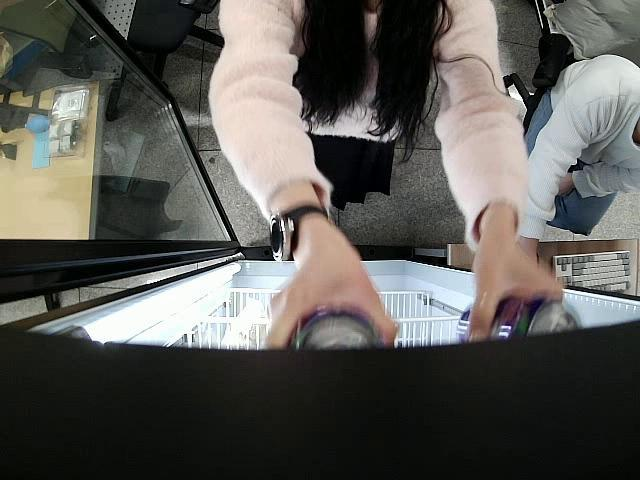14_welchsGrape: (458, 296, 584, 346), (284, 304, 386, 353)
